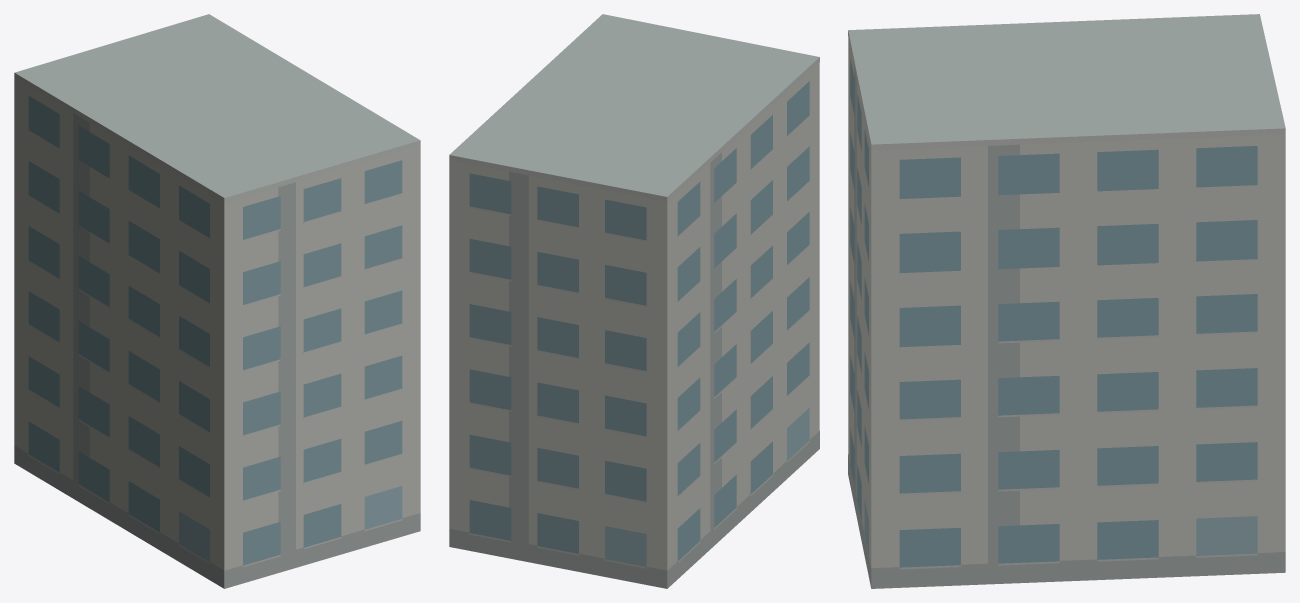
The model's file is survey-upis-32993384.glb.
3 views of the same model, side by side, from view 1: azimuth 30°, elevation 25°; view 2: azimuth 150°, elevation 25°; view 3: azimuth 270°, elevation 25° (orthographic). The views are drawn at different scales.
Parts seen in each view (by area): view 1: survey-upis-32993384.tmp; view 2: survey-upis-32993384.tmp; view 3: survey-upis-32993384.tmp.
Part boxes in pixels (box(x1,y1,x2,y2)): survey-upis-32993384.tmp: box(14, 14, 420, 588); survey-upis-32993384.tmp: box(449, 14, 819, 588); survey-upis-32993384.tmp: box(848, 14, 1285, 588).
Size of the model in its own units: 11.54 by 18.3 by 16.34.
